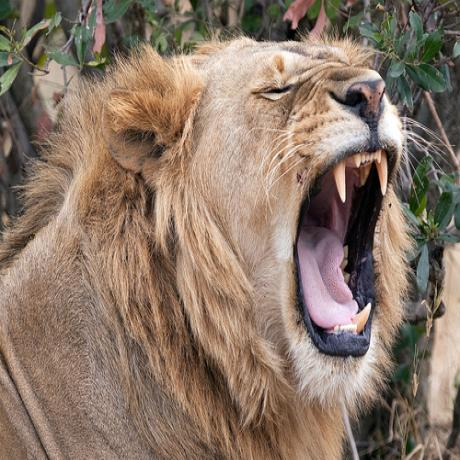Lion: (0, 32, 405, 460)
